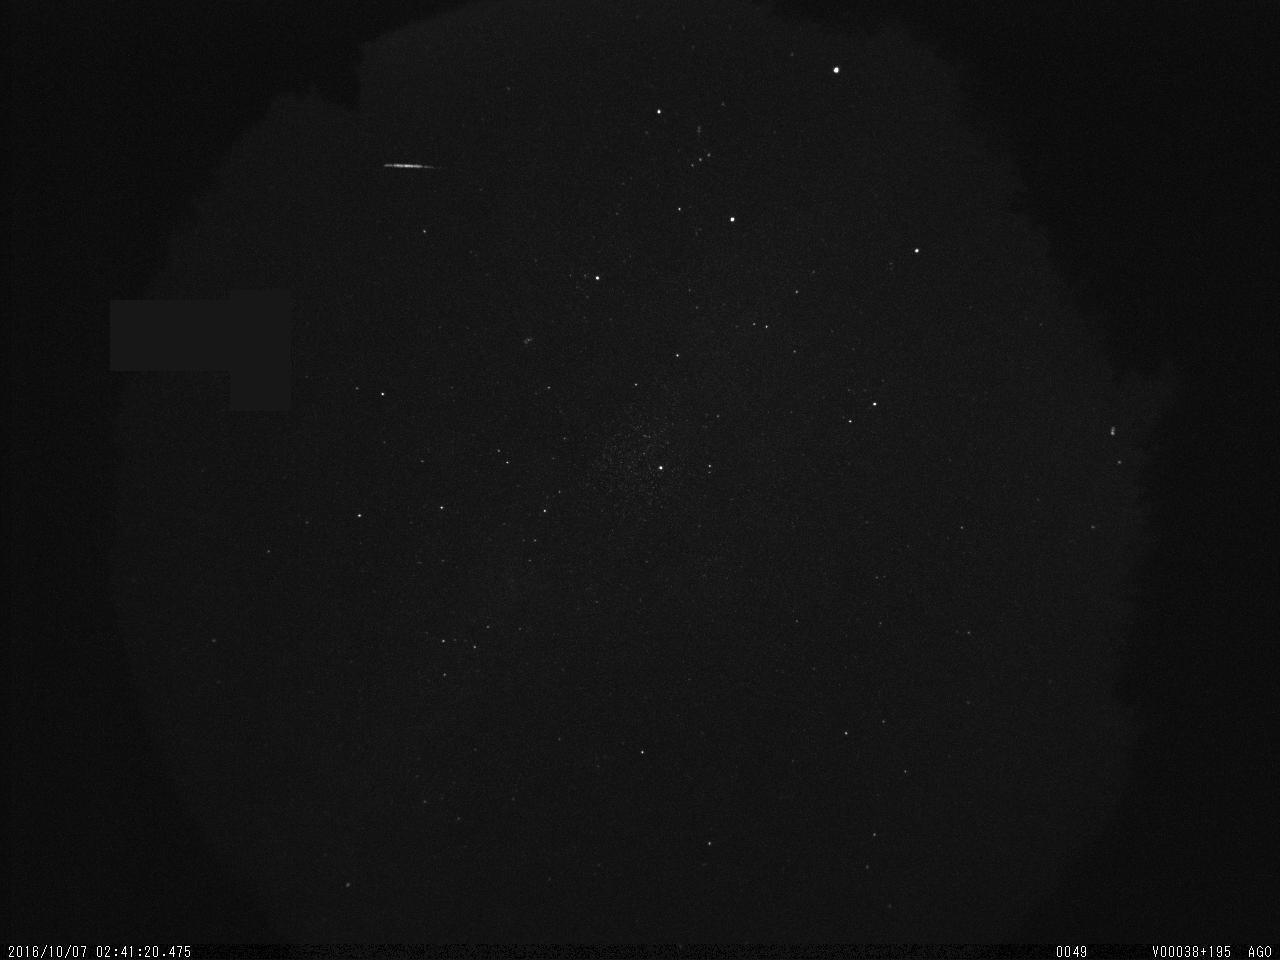Meteor: (378, 151, 444, 181)
